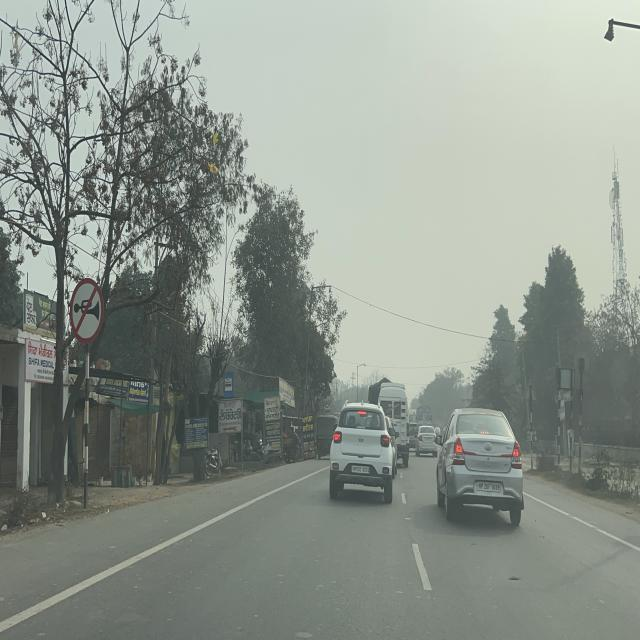HORN_PROHIBITED: (68, 275, 105, 349)
INFORMATION: (224, 372, 234, 398)
